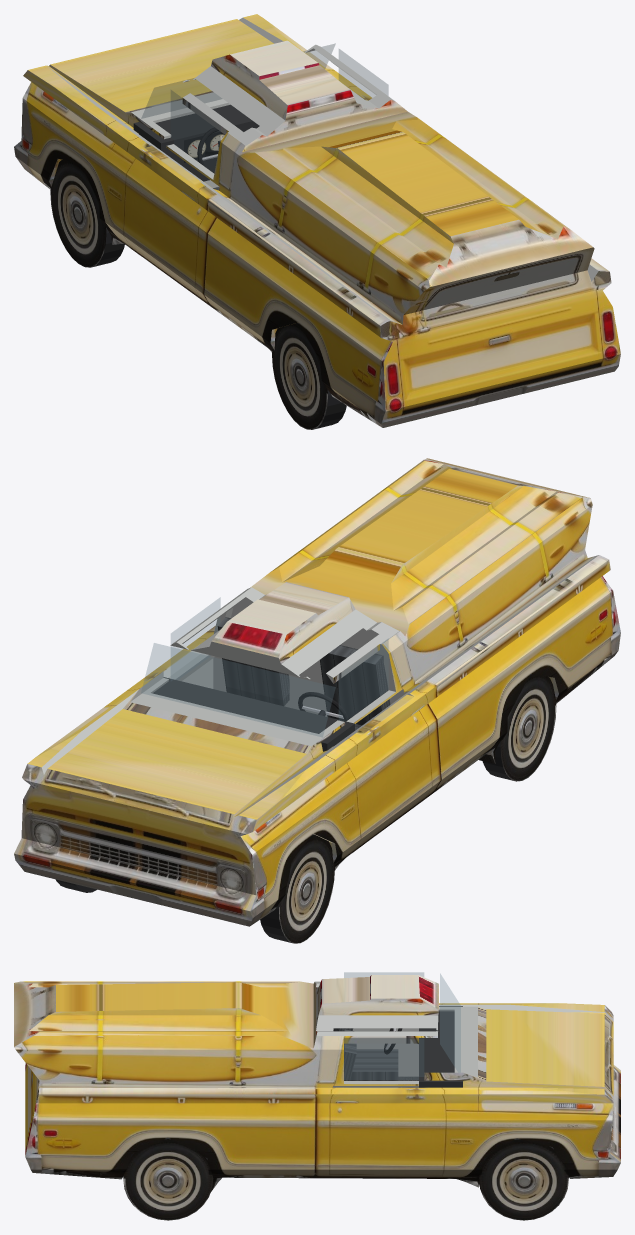
File: lifeguard_truck.glb
The picture shows the model from 3 angles, top to bottom: view 1: azimuth 30°, elevation 25°; view 2: azimuth 150°, elevation 25°; view 3: azimuth 270°, elevation 25°; orthographic projection. The views are drawn at different scales.
Parts seen in each view (by area): view 1: lifeguard_truck, lifeguard_truck_cabin, wheel_BL, wheel_FL; view 2: lifeguard_truck, lifeguard_truck_cabin, wheel_FL, wheel_BL; view 3: lifeguard_truck, lifeguard_truck_cabin, wheel_FR, wheel_BR.
Boxes of the visible parts, x1=… form: lifeguard_truck: x1=14, y1=14, x2=620, y2=427; lifeguard_truck_cabin: x1=133, y1=43, x2=388, y2=190; wheel_BL: x1=272, y1=322, x2=346, y2=429; wheel_FL: x1=50, y1=160, x2=124, y2=267; lifeguard_truck: x1=14, y1=458, x2=620, y2=926; lifeguard_truck_cabin: x1=141, y1=597, x2=390, y2=751; wheel_FL: x1=260, y1=834, x2=334, y2=943; wheel_BL: x1=482, y1=674, x2=556, y2=781; lifeguard_truck: x1=14, y1=975, x2=620, y2=1191; lifeguard_truck_cabin: x1=333, y1=972, x2=462, y2=1087; wheel_FR: x1=479, y1=1138, x2=568, y2=1220; wheel_BR: x1=123, y1=1137, x2=213, y2=1220.
Bounding box in the file's own units: 1.99 × 1.89 × 5.49.
Materials: 11 (4 with a texture image).
